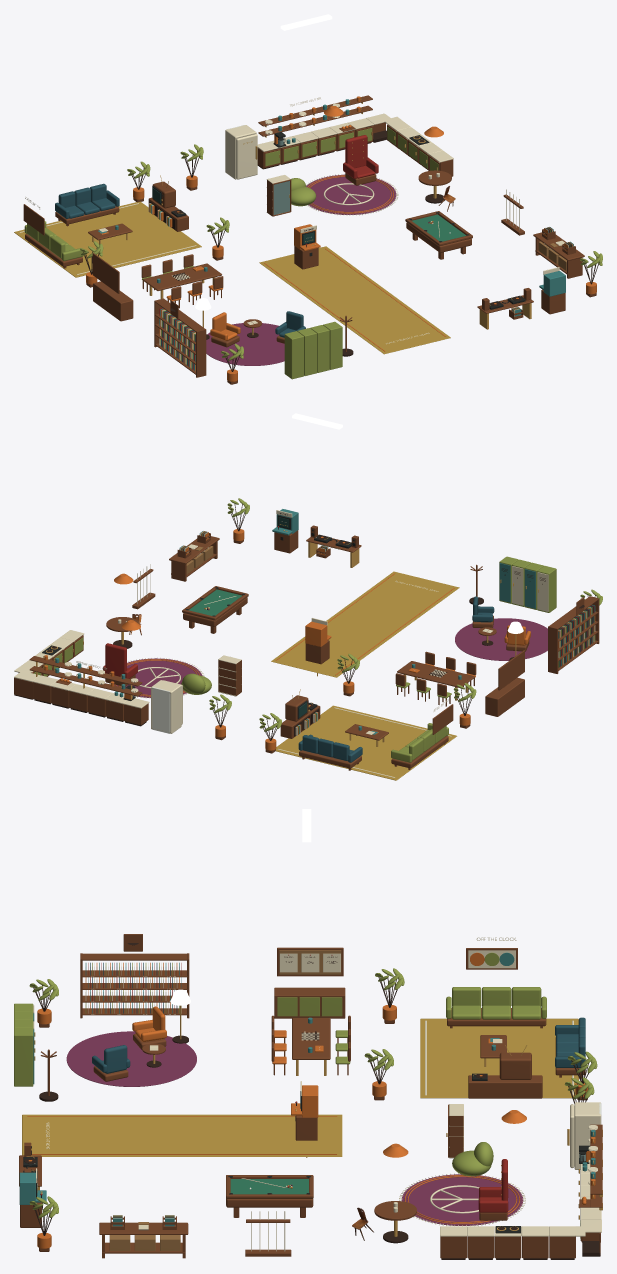
The model's file is backroom_v3.glb.
3 renders of one model, top to bottom at view 1: azimuth 30°, elevation 25°; view 2: azimuth 150°, elevation 25°; view 3: azimuth 270°, elevation 25°, orthographic. The views are drawn at different scales.
Visible parts, largest first — view 1: Entry • woven runner, Lounge • ochre rug, Round aubergine rug, Reading • circular rug, Dining sideboard, Dining • walnut tabletop, Fridge • rounded door, Staff locker 1 • body, Pool • felt bed, Red armchair • back top 1.90m, Staff locker 4 • body, Noticeboard • frame (+7 smaller); view 2: Entry • woven runner, Lounge • ochre rug, Reading • circular rug, Round aubergine rug, Dining sideboard, Dining • walnut tabletop, Fridge • back, Pool • felt bed, Red armchair • back top 1.90m, Noticeboard • frame, Curio • back, Floating walnut shelf (+4 smaller); view 3: Entry • woven runner, Lounge • ochre rug, Reading • circular rug, Round aubergine rug, TV • console, Dining • walnut tabletop, Pool • felt bed, Dining sideboard, Staff locker 4 • body, CRT • walnut housing, Sorting bench • worktop, Avocado three-seat sofa • base (+16 smaller).
Part boxes in pixels (left/top/right/bottom): Entry • woven runner: left=259, top=246, right=450, bottom=354; Lounge • ochre rug: left=14, top=201, right=201, bottom=277; Round aubergine rug: left=306, top=174, right=396, bottom=214; Reading • circular rug: left=206, top=323, right=284, bottom=365; Dining sideboard: left=93, top=281, right=133, bottom=321; Dining • walnut tabletop: left=143, top=263, right=221, bottom=290; Fridge • rounded door: left=236, top=134, right=257, bottom=179; Staff locker 1 • body: left=284, top=331, right=303, bottom=379; Pool • felt bed: left=412, top=214, right=466, bottom=241; Red armchair • back top 1.90m: left=345, top=135, right=367, bottom=168; Staff locker 4 • body: left=323, top=321, right=342, bottom=369; Noticeboard • frame: left=92, top=253, right=119, bottom=293; Entry • woven runner: left=271, top=571, right=459, bottom=677; Lounge • ochre rug: left=276, top=705, right=456, bottom=780; Reading • circular rug: left=455, top=618, right=547, bottom=660; Round aubergine rug: left=114, top=658, right=202, bottom=697; Dining sideboard: left=485, top=677, right=524, bottom=716; Dining • walnut tabletop: left=397, top=661, right=474, bottom=687; Fridge • back: left=152, top=687, right=170, bottom=733; Pool • felt bed: left=189, top=589, right=241, bottom=615; Red armchair • back top 1.90m: left=105, top=643, right=126, bottom=676; Noticeboard • frame: left=498, top=650, right=524, bottom=690; Curio • back: left=218, top=660, right=236, bottom=695; Floating walnut shelf: left=29, top=666, right=142, bottom=696; Entry • woven runner: left=22, top=1114, right=342, bottom=1156; Lounge • ochre rug: left=420, top=1018, right=578, bottom=1098; Reading • circular rug: left=66, top=1031, right=196, bottom=1086; Round aubergine rug: left=401, top=1174, right=523, bottom=1225; TV • console: left=468, top=1075, right=542, bottom=1098; Dining • walnut tabletop: left=292, top=1018, right=330, bottom=1059; Pool • felt bed: left=230, top=1179, right=308, bottom=1194; Dining sideboard: left=274, top=987, right=345, bottom=1018; Staff locker 4 • body: left=14, top=1027, right=33, bottom=1086; CRT • walnut housing: left=499, top=1052, right=531, bottom=1079; Sorting bench • worktop: left=99, top=1222, right=188, bottom=1234; Avocado three-seat sofa • base: left=447, top=1008, right=546, bottom=1026.
Size of what is drawn, in the model's own units: 20.11 by 12.41 by 19.86.
23 materials, 2 textured.
